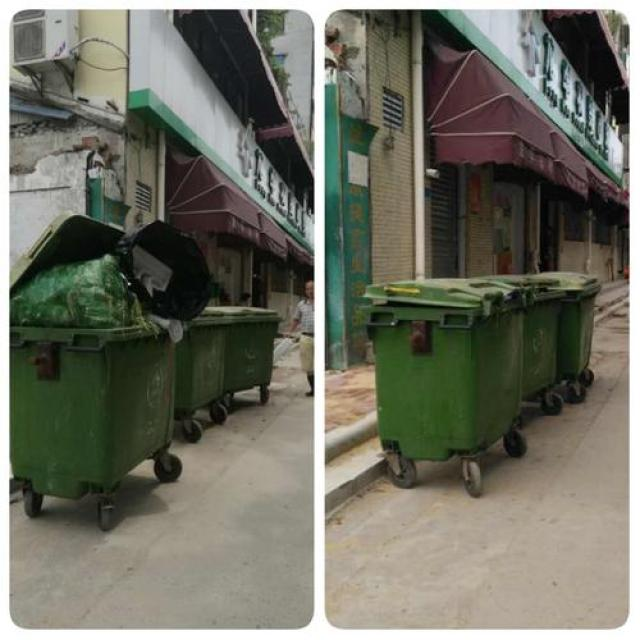garbage_bin: (360, 275, 521, 458), (540, 272, 602, 372), (521, 274, 564, 397), (176, 307, 226, 408), (224, 304, 280, 390)
overflow: (9, 213, 212, 499)
